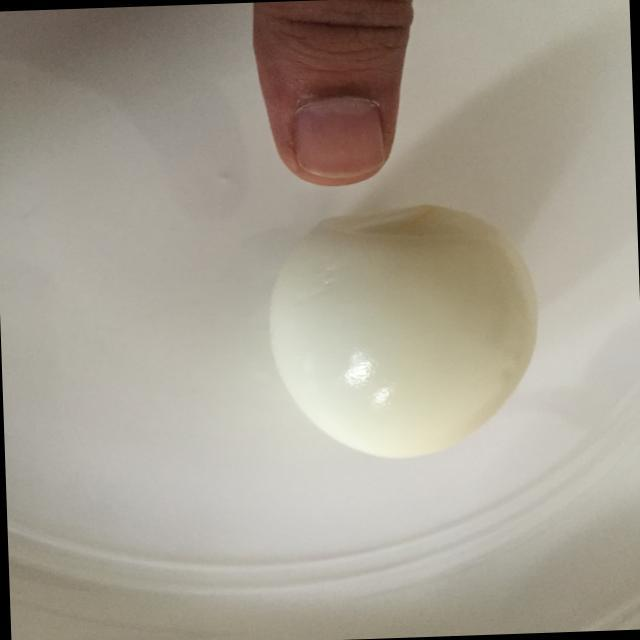Egg: (251, 196, 569, 483)
Finger: (234, 0, 449, 193)
